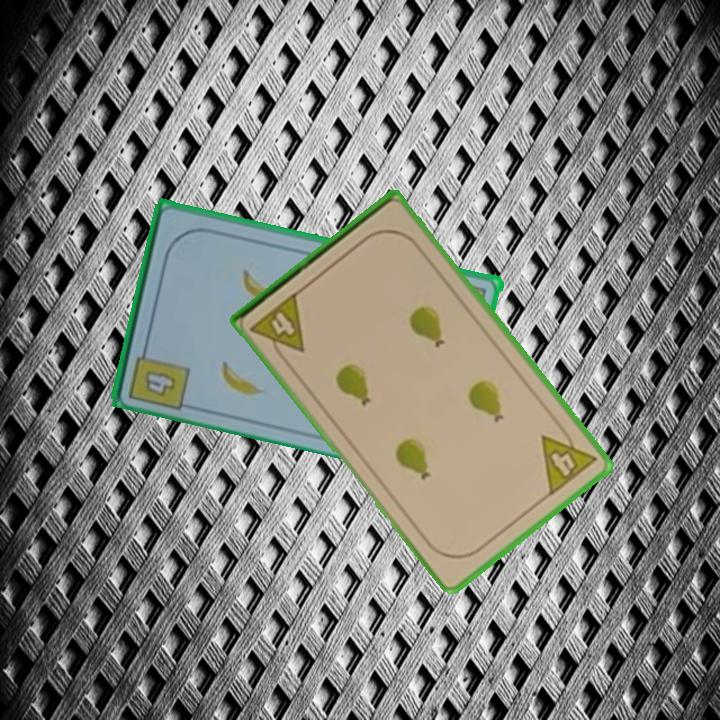4b: (125, 338, 193, 413)
4p: (537, 419, 600, 499), (246, 288, 308, 366)
